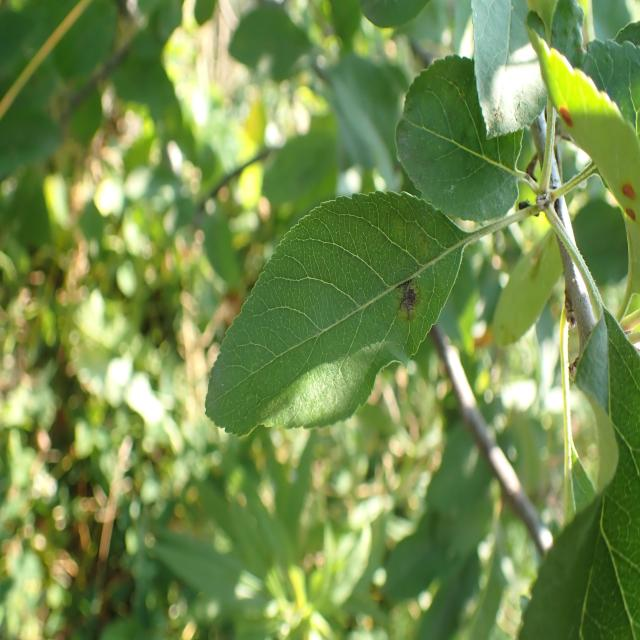scab: (216, 260, 459, 414), (373, 66, 524, 211)
